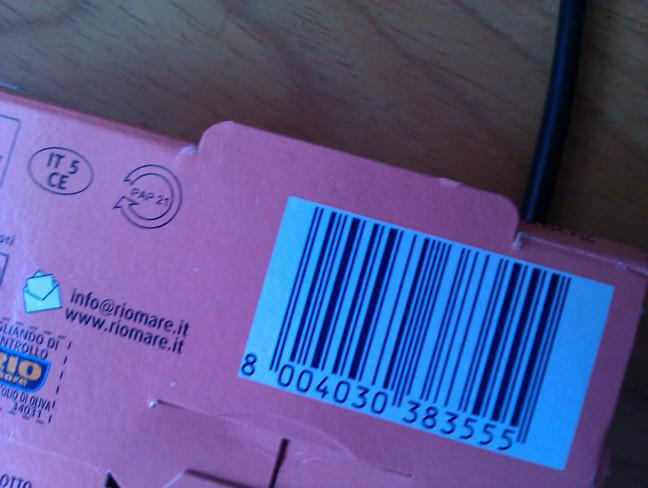Barkod: (239, 196, 610, 468)
